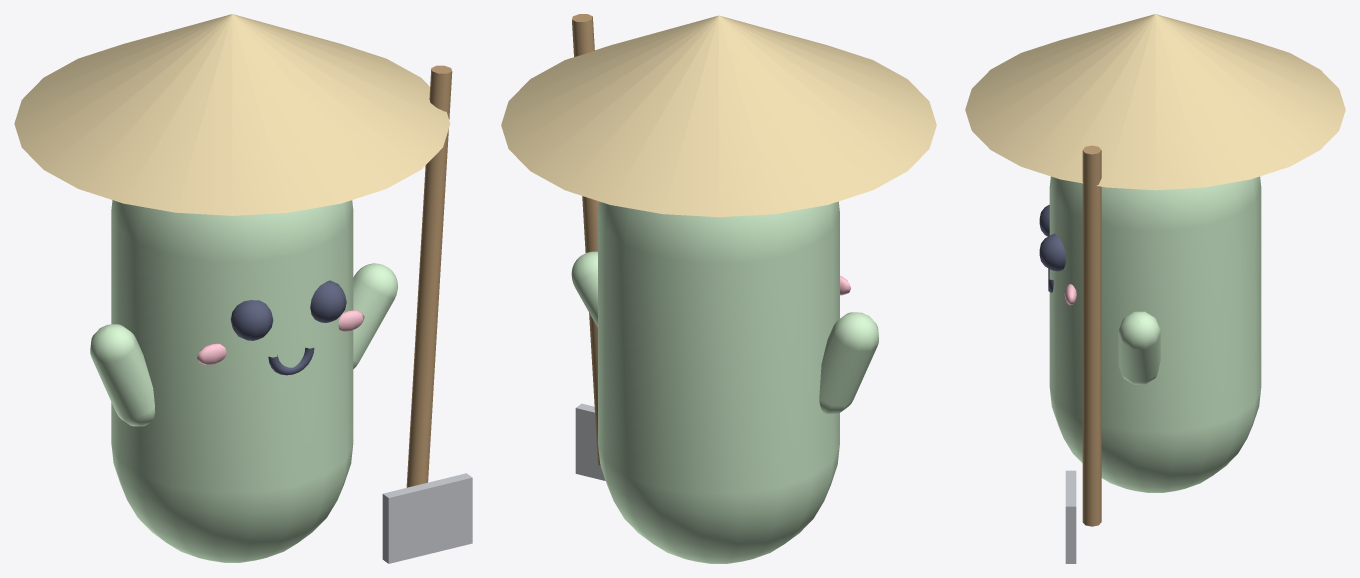
File: petani.glb
The picture shows the model from 3 angles, left to right: view 1: azimuth 30°, elevation 25°; view 2: azimuth 150°, elevation 25°; view 3: azimuth 270°, elevation 25°; orthographic projection. The views are drawn at different scales.
Visible parts, largest first — view 1: petani; view 2: petani; view 3: petani.
Part boxes in pixels (box(x1,y1,x2,y2)): petani: box(14, 14, 472, 563); petani: box(501, 14, 936, 563); petani: box(965, 14, 1345, 563).
Size of the model in its own units: 0.72 by 0.98 by 0.72.
